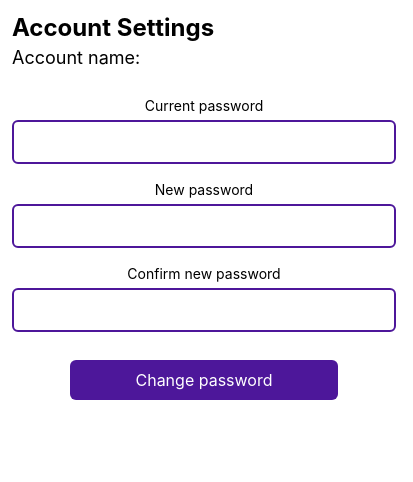
it: SettingsPage password change › requires an email address for reauthentication
This screenshot has width=413, height=482.
Type "oldpassword" into the password field labelled "Current password" at coordinates (204, 142), box [12, 120, 396, 164]
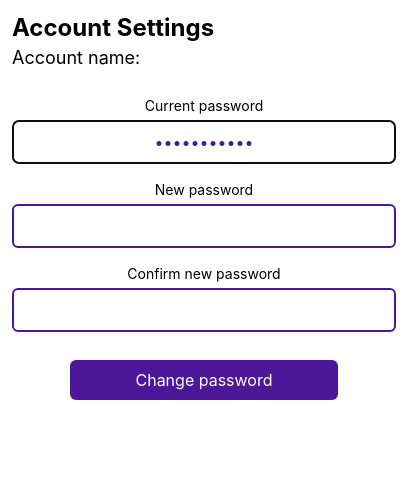
Type "newpassword" into the password field labelled "New password" at coordinates (204, 226), box [12, 204, 396, 248]
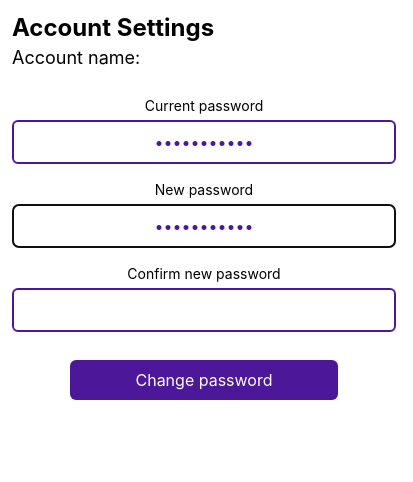
Type "newpassword" into the password field labelled "Confirm new password" at coordinates (204, 310), box [12, 288, 396, 332]
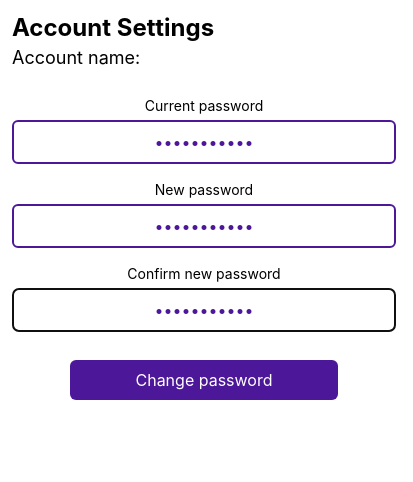
Click the button "Change password" at coordinates (204, 380), box [70, 360, 338, 400]
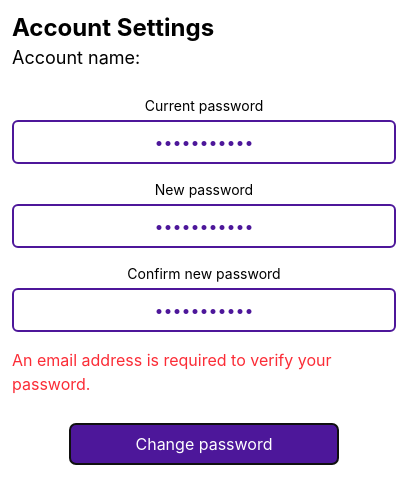
expect the message shows "email address is required": met, box [12, 350, 332, 394]
